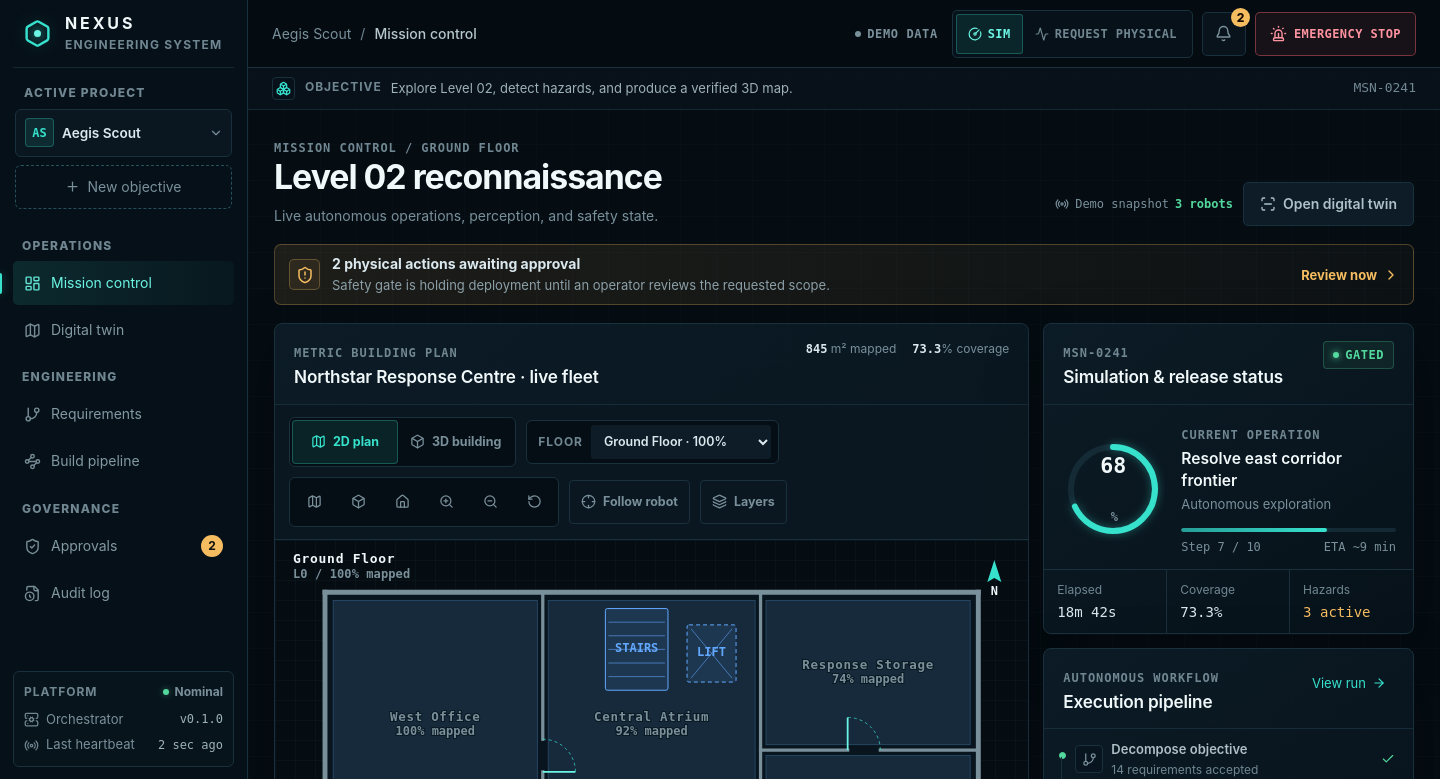
Test: NEXUS operations console › routes notifications to pending approvals
Expected: the text "DEMO DATA" is shown, [850, 26, 943, 40]
Click the button named "Review 2 pending approvals" at (1224,34), box [1202, 12, 1246, 56]
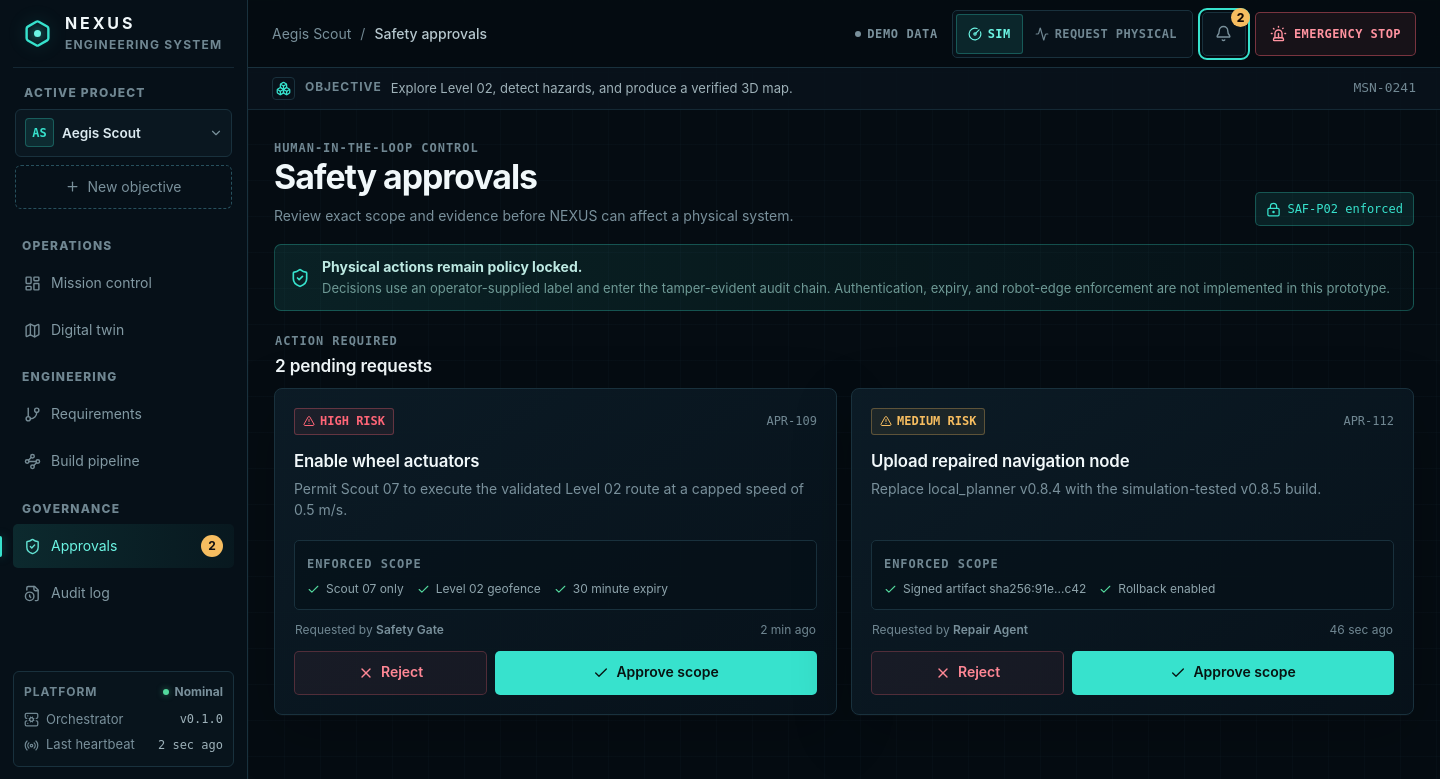
Expected: the heading "Safety approvals" is shown, [274, 156, 537, 197]
